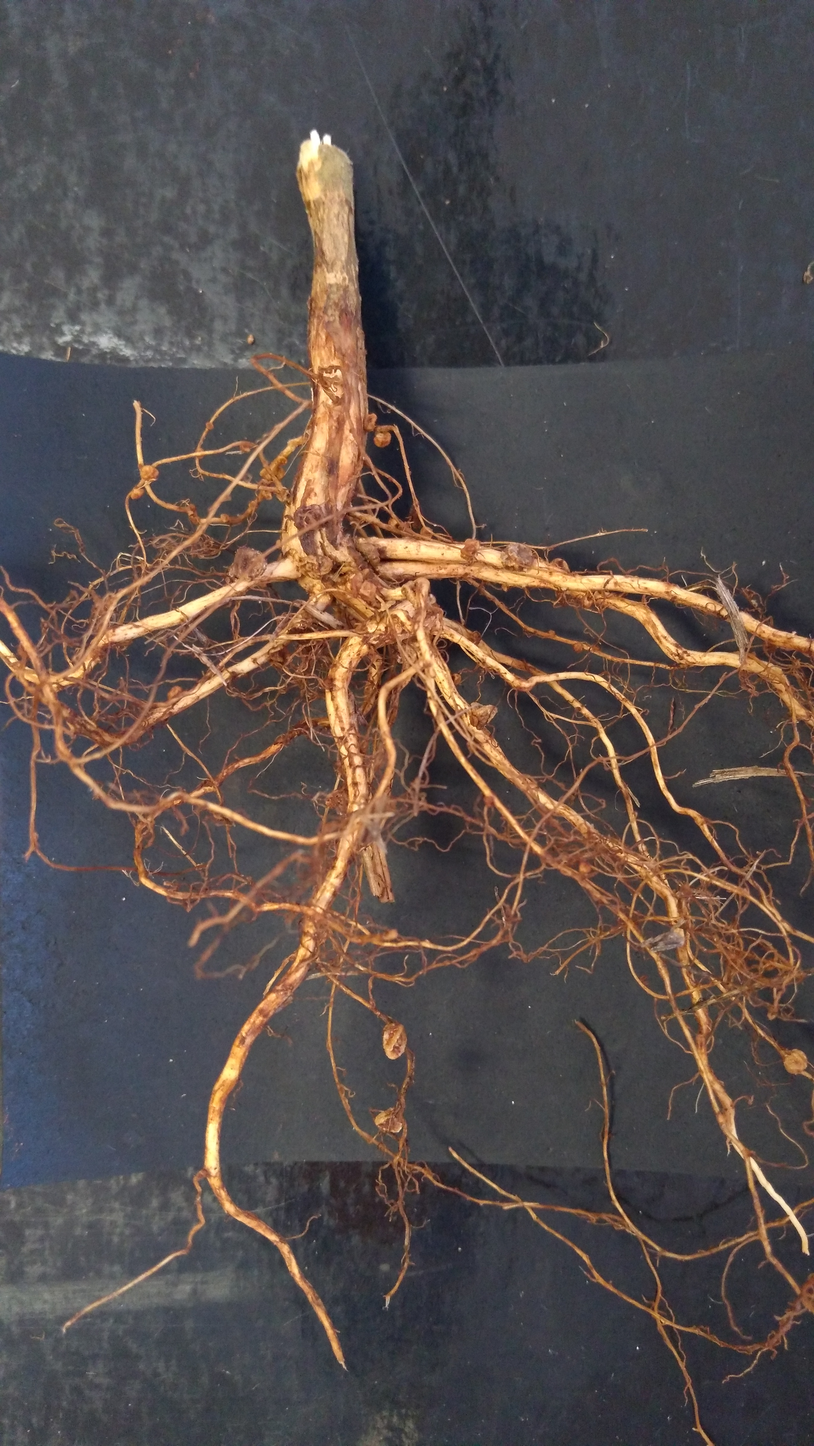nodule: (377, 1018, 412, 1065), (227, 544, 268, 582), (371, 1104, 411, 1139), (498, 542, 539, 576), (291, 553, 335, 581), (293, 573, 332, 604), (396, 575, 432, 605), (779, 1046, 811, 1079), (467, 701, 500, 730), (353, 537, 383, 567), (458, 535, 484, 564), (356, 579, 382, 605), (164, 684, 192, 702), (549, 555, 571, 576), (182, 502, 201, 526), (371, 431, 396, 449), (139, 463, 160, 483), (361, 410, 378, 434), (387, 515, 407, 535), (363, 615, 378, 637), (417, 524, 436, 540), (128, 488, 148, 500), (469, 629, 486, 643), (579, 858, 593, 874), (258, 467, 272, 482), (582, 594, 597, 608), (261, 486, 274, 502), (450, 672, 463, 686), (572, 641, 584, 654), (219, 511, 230, 525), (195, 447, 206, 458), (545, 628, 558, 637), (276, 466, 285, 479), (592, 641, 601, 651), (501, 583, 510, 592), (206, 421, 215, 430)
